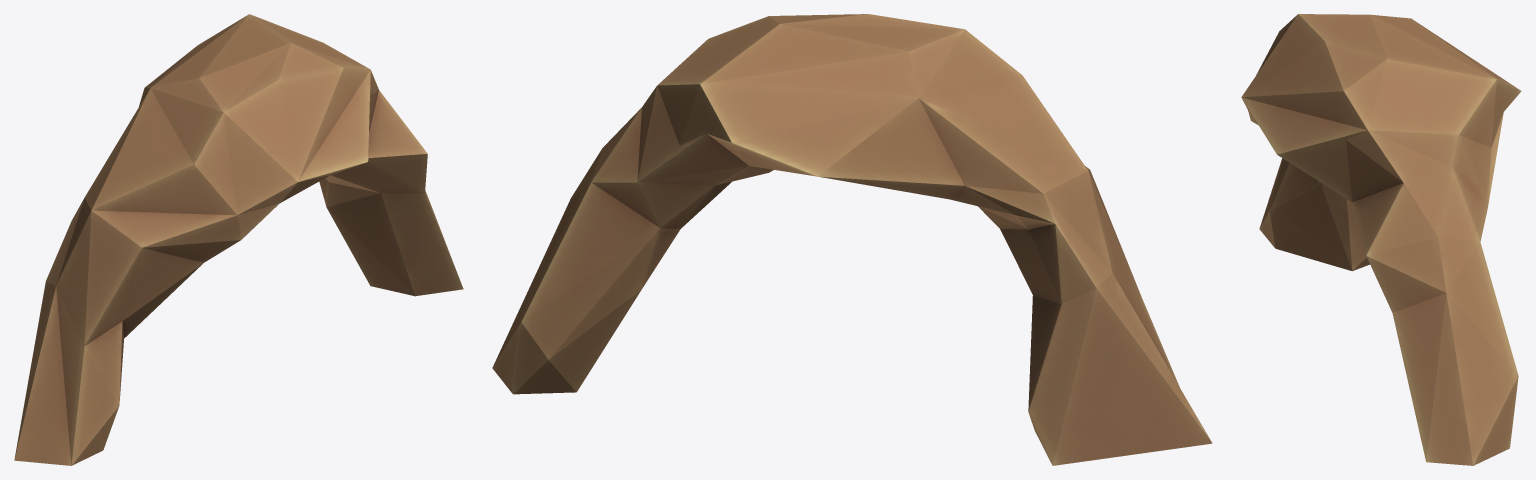
The model's file is Mountain rock_11.fbx.
3 views of the same model, side by side, from view 1: azimuth 30°, elevation 25°; view 2: azimuth 150°, elevation 25°; view 3: azimuth 270°, elevation 25° (orthographic). The views are drawn at different scales.
Parts seen in each view (by area): view 1: Mountain rock_11; view 2: Mountain rock_11; view 3: Mountain rock_11.
Part boxes in pixels (x1,y1,x2,y2): Mountain rock_11: (14, 14, 463, 465); Mountain rock_11: (492, 14, 1212, 465); Mountain rock_11: (1241, 14, 1521, 465).
Bounding box in the file's own units: 272 × 126 × 154.
Materials: 1 (1 with a texture image).
